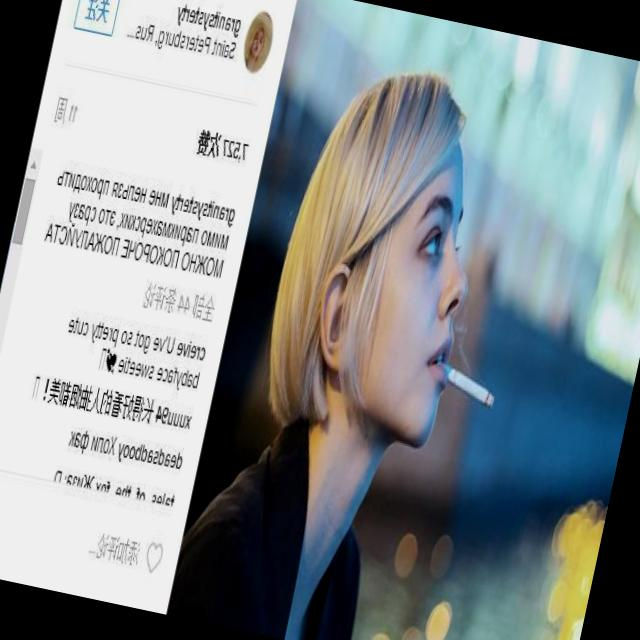smoke: (422, 338, 512, 409)
